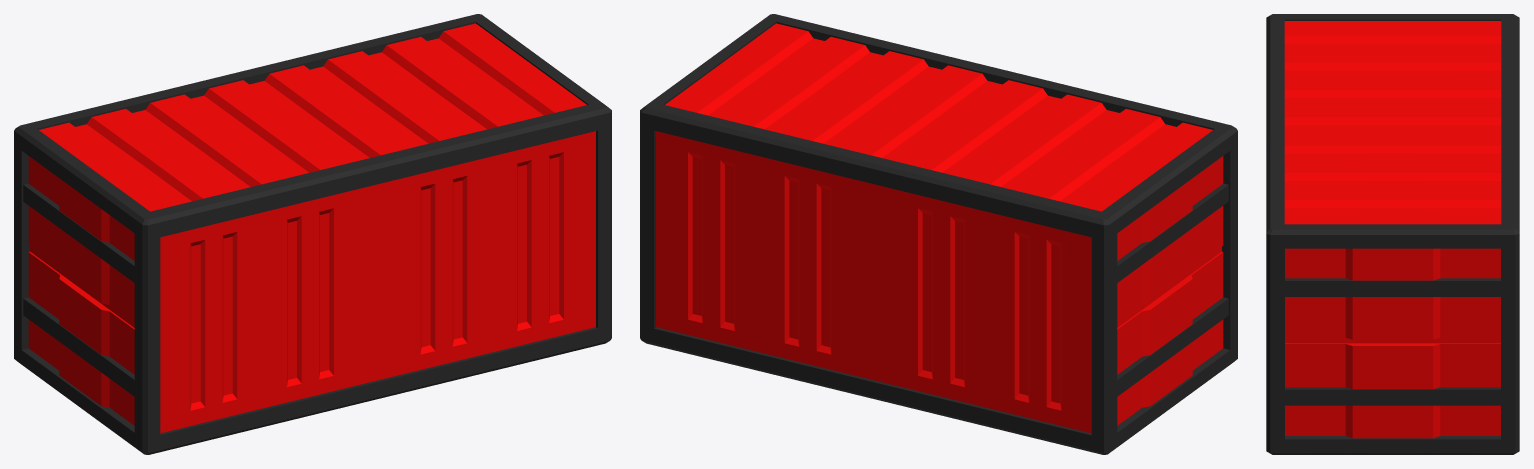
File: Container Red.fbx
3 views of the same model, side by side, from view 1: azimuth 30°, elevation 25°; view 2: azimuth 150°, elevation 25°; view 3: azimuth 270°, elevation 25° (orthographic). The views are drawn at different scales.
Visible parts, largest first — view 1: Big_Container_Long.017; view 2: Big_Container_Long.017; view 3: Big_Container_Long.017.
Boxes of the visible parts, x1,y1,x2,y2 form: Big_Container_Long.017: (14,14,611,454); Big_Container_Long.017: (640,14,1237,454); Big_Container_Long.017: (1266,14,1519,454).
Bounding box in the file's own units: 872 × 418 × 426.
